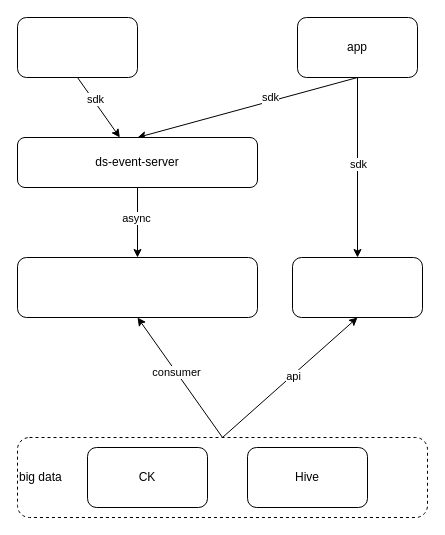
The diagram is 445 pixels wide and 535 high, and some of its shapes have lost their labels. The box of each missing label's shape, as (x1, y1, x2, y2) in pixels:
appsflyer: (292, 256, 422, 318)
kafka: (16, 256, 258, 318)
server: (16, 16, 138, 78)
